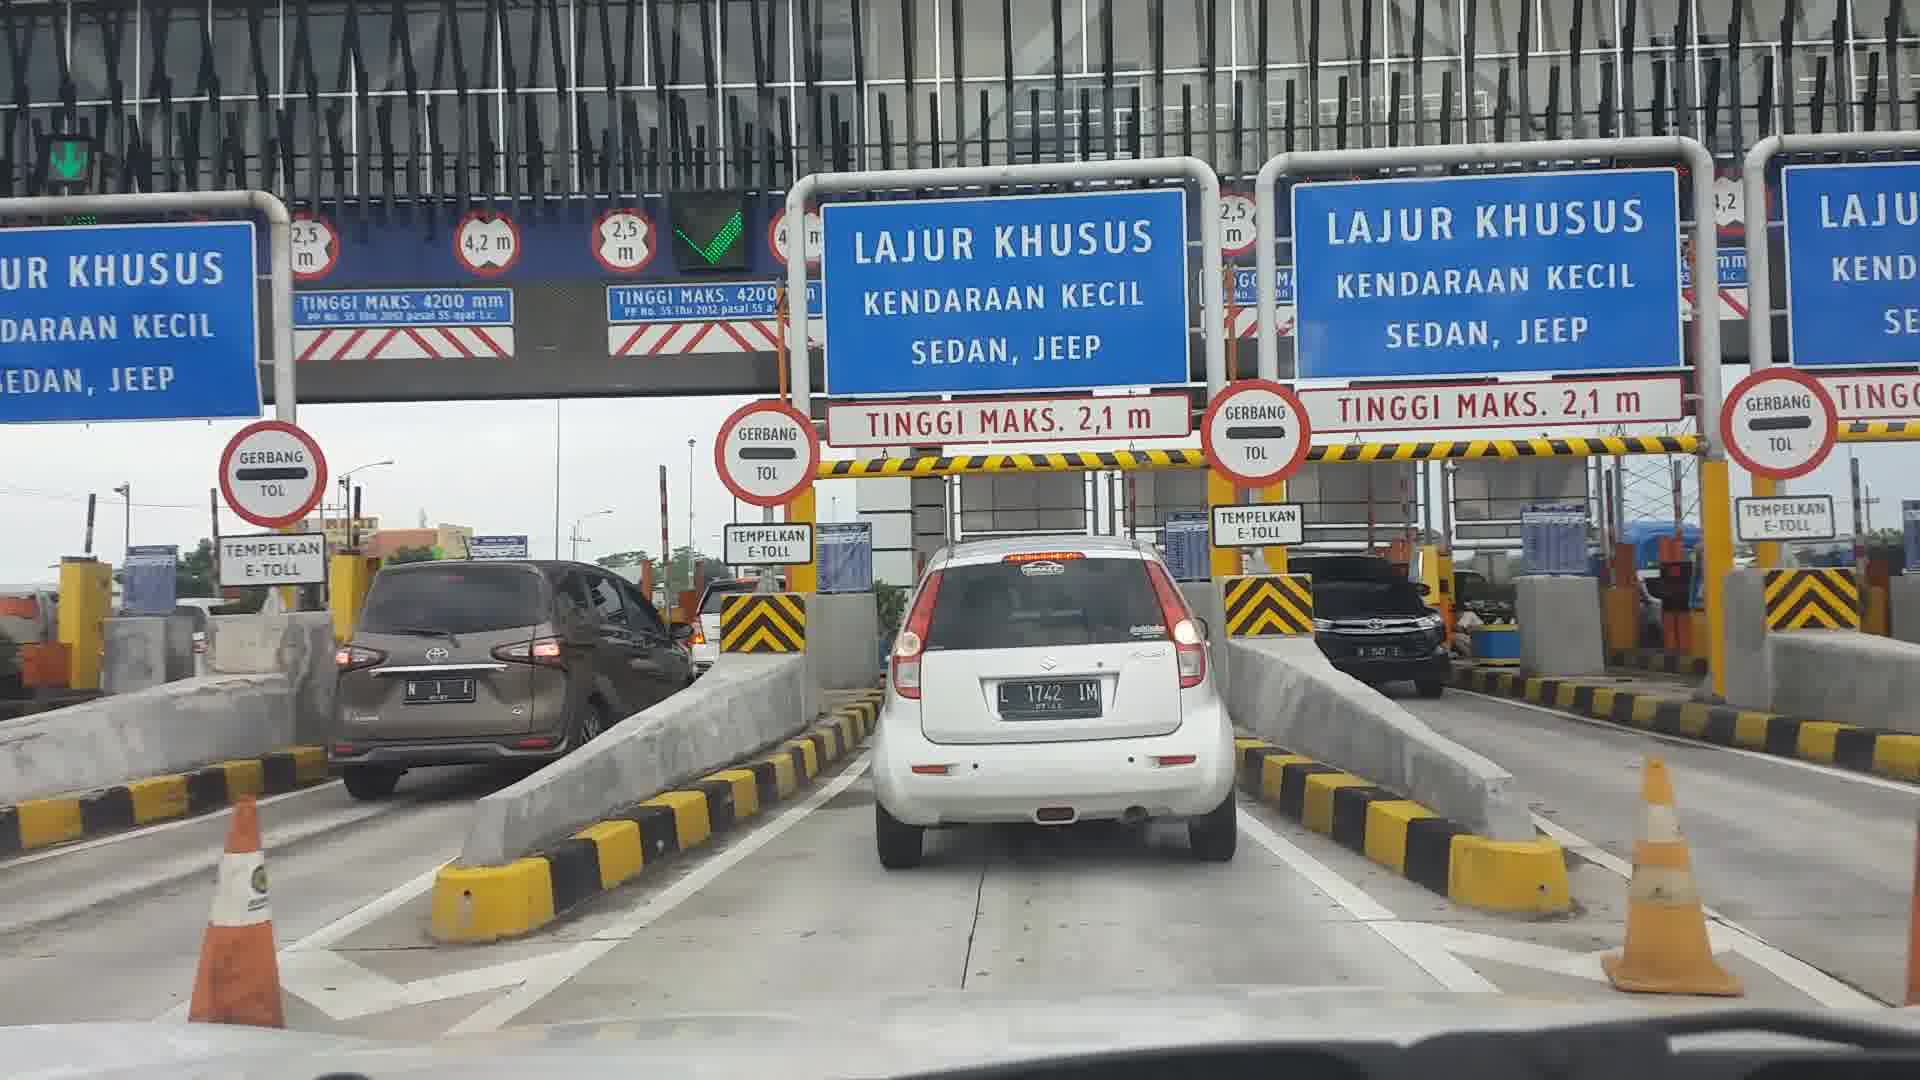plate_positive: (998, 680, 1101, 716), (406, 679, 473, 702)
